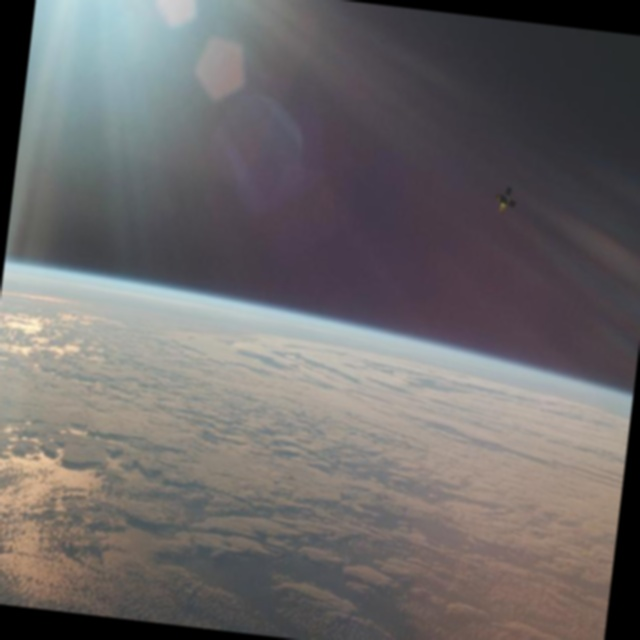satellite: (478, 178, 522, 225)
